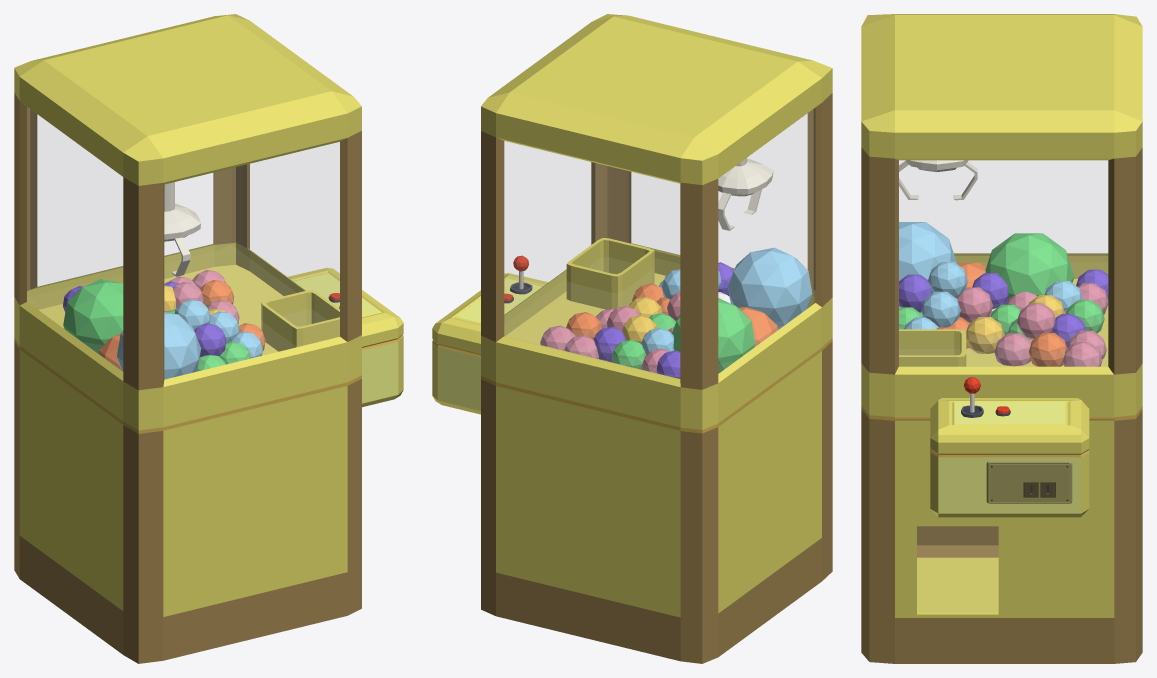
3 views of the same model, side by side, from view 1: azimuth 30°, elevation 25°; view 2: azimuth 150°, elevation 25°; view 3: azimuth 270°, elevation 25° (orthographic). The views are drawn at different scales.
Visible parts, largest first — view 1: Cube, Bouri, object 11, object 9, object 5, object 25, object 41, object 43, object 40; view 2: Cube, Bouri, object 9, object 11, object 5, object 16, object 31, object 10, object 43, object 13, object 34, object 45 (+1 smaller); view 3: Cube, Bouri, object 11, object 4, object 9, object 37, object 40, object 43, object 41, object 44, object 39, object 33 (+13 smaller).
Part boxes in pixels (left/top/right/bottom): Cube: left=14, top=14, right=403, bottom=663; Bouri: left=27, top=107, right=339, bottom=370; object 11: left=63, top=279, right=123, bottom=353; object 9: left=117, top=312, right=200, bottom=379; object 5: left=164, top=182, right=200, bottom=241; object 25: left=194, top=323, right=226, bottom=357; object 41: left=174, top=299, right=210, bottom=329; object 43: left=200, top=280, right=234, bottom=306; object 40: left=209, top=311, right=239, bottom=343; Cube: left=432, top=14, right=832, bottom=663; Bouri: left=504, top=109, right=814, bottom=378; object 9: left=728, top=247, right=812, bottom=329; object 11: left=672, top=298, right=755, bottom=373; object 5: left=718, top=158, right=773, bottom=196; object 16: left=611, top=339, right=646, bottom=369; object 31: left=594, top=326, right=626, bottom=362; object 10: left=738, top=307, right=777, bottom=347; object 43: left=566, top=312, right=601, bottom=339; object 13: left=641, top=327, right=674, bottom=354; object 34: left=622, top=315, right=657, bottom=343; object 45: left=540, top=325, right=575, bottom=350; Cube: left=861, top=14, right=1142, bottom=663; Bouri: left=899, top=161, right=1107, bottom=366; object 11: left=985, top=233, right=1074, bottom=304; object 4: left=986, top=461, right=1072, bottom=503; object 9: left=899, top=222, right=956, bottom=280; object 37: left=966, top=317, right=1004, bottom=353; object 40: left=921, top=291, right=960, bottom=327; object 43: left=1028, top=333, right=1067, bottom=366; object 41: left=928, top=262, right=967, bottom=297; object 44: left=1016, top=303, right=1055, bottom=338; object 39: left=994, top=333, right=1031, bottom=366; object 33: left=956, top=287, right=992, bottom=322.
Size of the model in its own units: 2.64 by 4.26 by 2.
